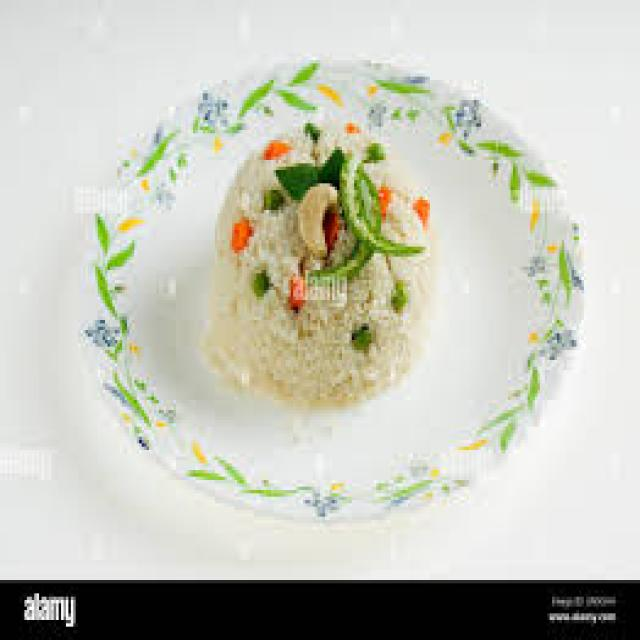UPMA: (200, 113, 435, 400)
